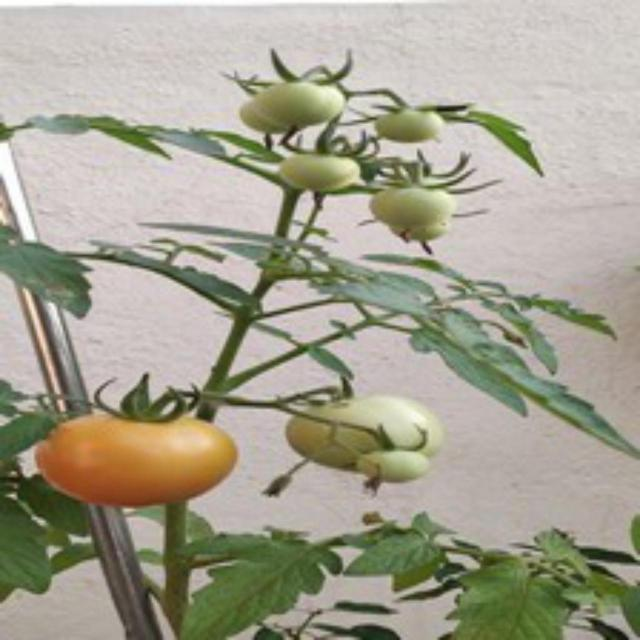tomato: (40, 405, 254, 521)
